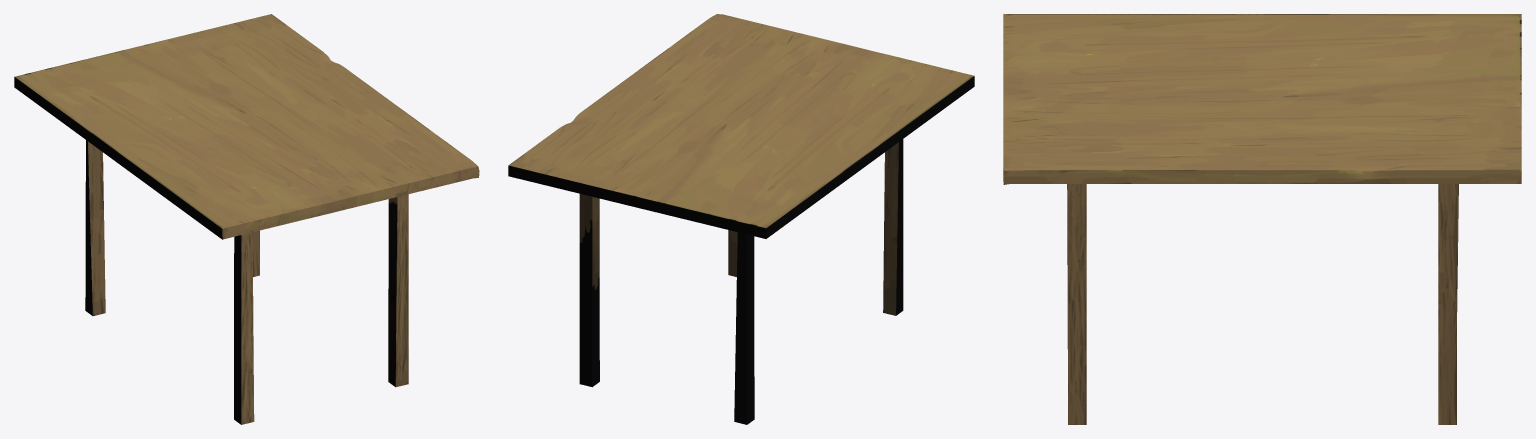
The model's file is table.fbx.
3 renders of one model, left to right at view 1: azimuth 30°, elevation 25°; view 2: azimuth 150°, elevation 25°; view 3: azimuth 270°, elevation 25°, orthographic. The views are drawn at different scales.
Visible parts, largest first — view 1: Plane.003; view 2: Plane.003; view 3: Plane.003.
Part boxes in pixels (x1,y1,x2,y2): Plane.003: (14, 14, 479, 424); Plane.003: (508, 14, 974, 424); Plane.003: (1003, 14, 1521, 424).
Bounding box in the file's own units: 100 × 84 × 140.
